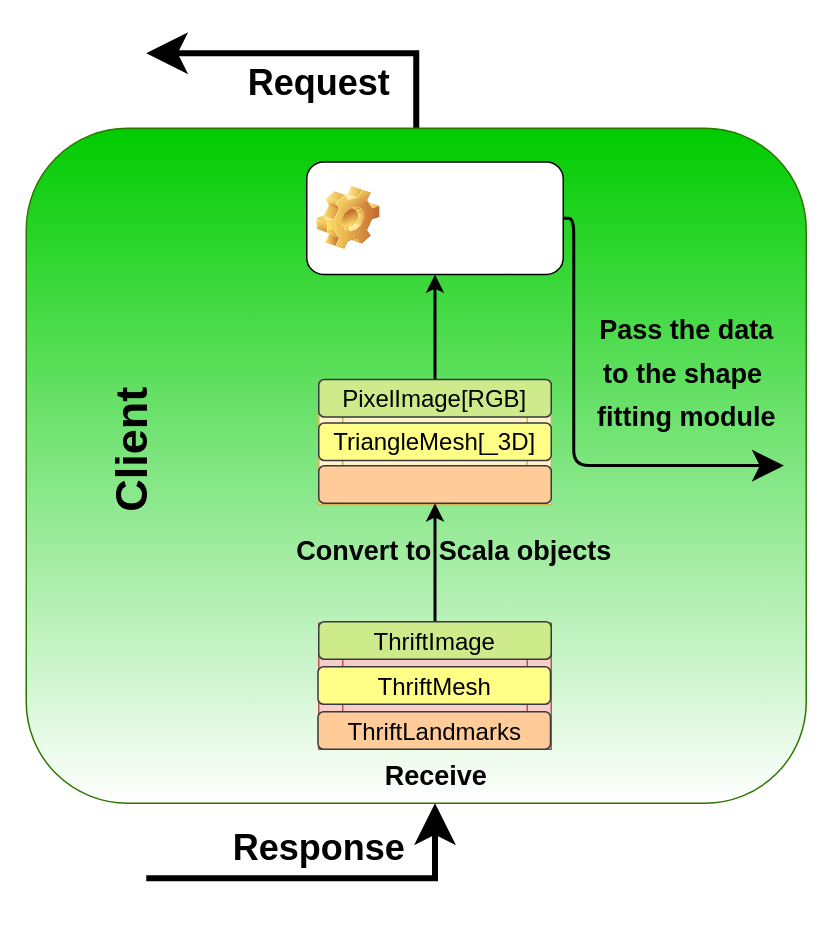
This 837x932 diagram has some shape labels left out. Each missing label, with the box of its shape:
Data Cleaning: (305, 160, 563, 274)
Landmark[_3D]: (317, 464, 551, 503)
